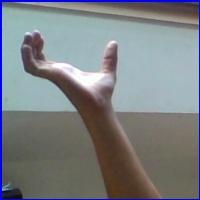B: (17, 29, 130, 118)
